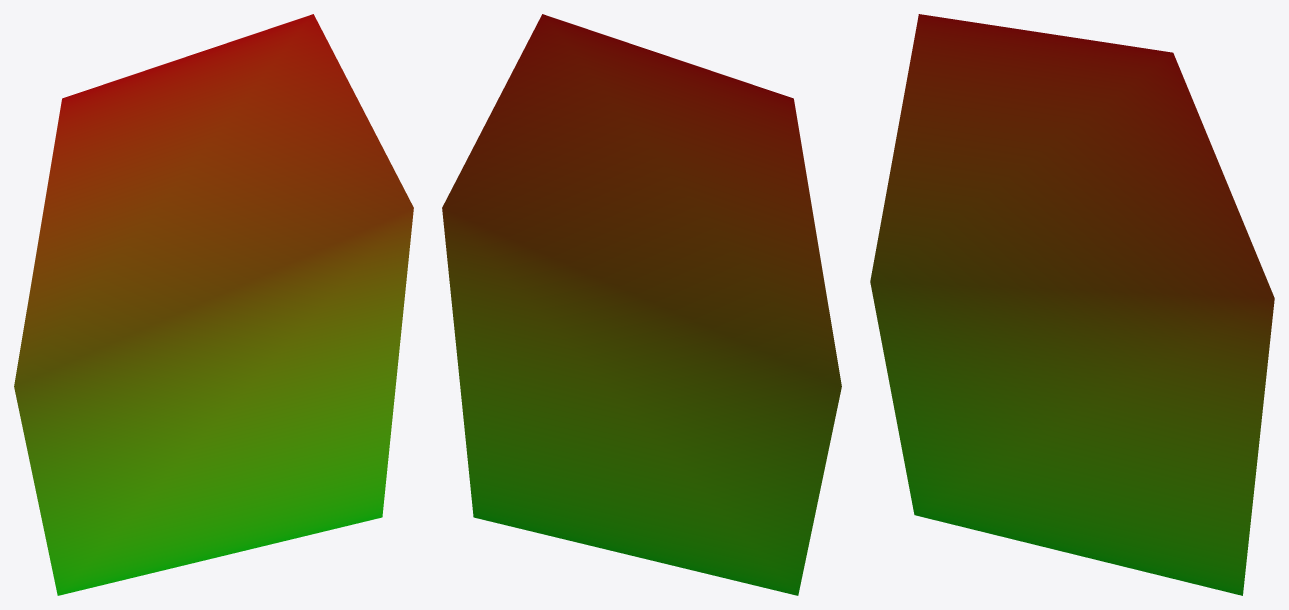
The model's file is Rubber Bush_LOD7_Var7_xffhfekia.fbx.
3 views of the same model, side by side, from view 1: azimuth 30°, elevation 25°; view 2: azimuth 150°, elevation 25°; view 3: azimuth 330°, elevation 25° (orthographic).
Parts seen in each view (by area): view 1: _b79i_Var7_LOD7; view 2: _b79i_Var7_LOD7; view 3: _b79i_Var7_LOD7.
Boxes of the visible parts, x1,y1,x2,y2 form: _b79i_Var7_LOD7: (14, 14, 413, 595); _b79i_Var7_LOD7: (442, 14, 841, 595); _b79i_Var7_LOD7: (870, 14, 1274, 595).
Bounding box in the file's own units: 36.58 × 45.47 × 4.78e-06.
